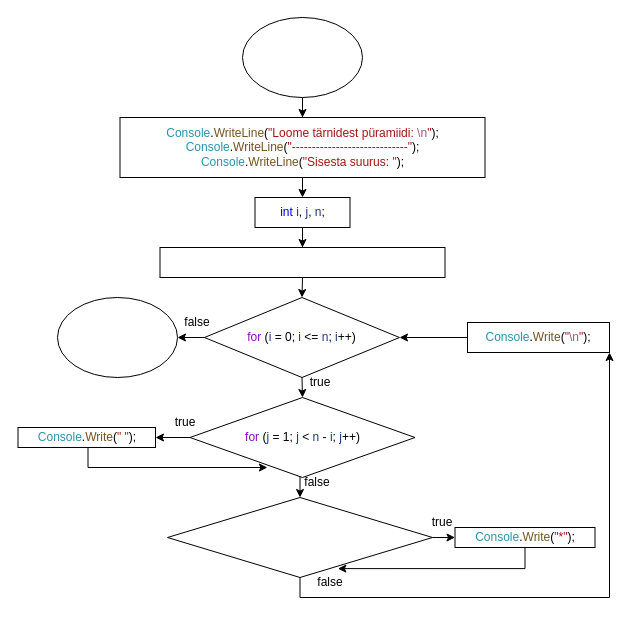
Image size: 635x623. Some labels were removed from this diagram. Here are the shapes that lost their labels. From the top down, the box of each, then its label:
(242, 16, 362, 98): start
(159, 246, 445, 278): n = Convert . ToInt32 ( Console . ReadLine ());
(56, 296, 178, 378): stop
(166, 496, 432, 578): for ( j = 1; j <= 2 * i - 1; j ++)
